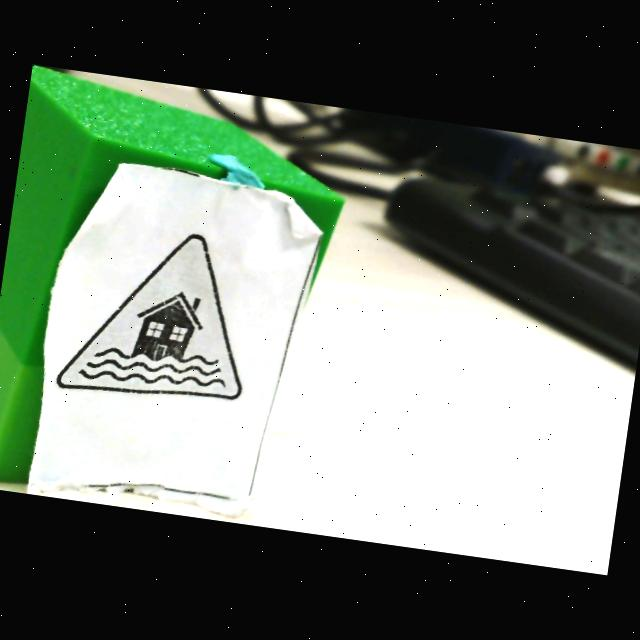Tsunami: (59, 235, 241, 400)
